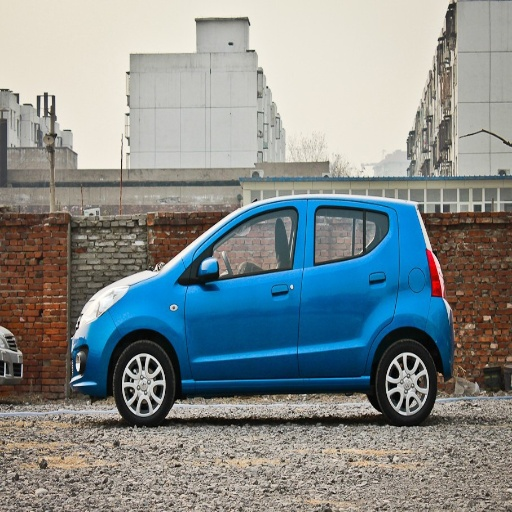back_left_door: (299, 203, 394, 375)
front_left_door: (186, 205, 305, 379)
